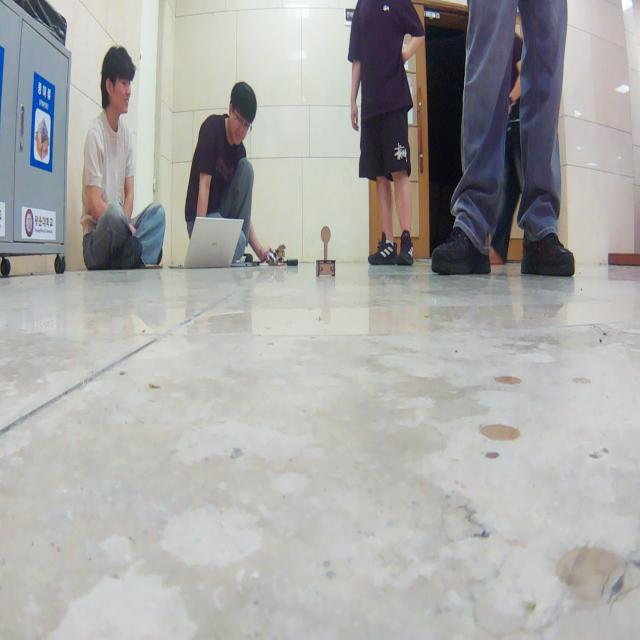target: (316, 226, 336, 277)
